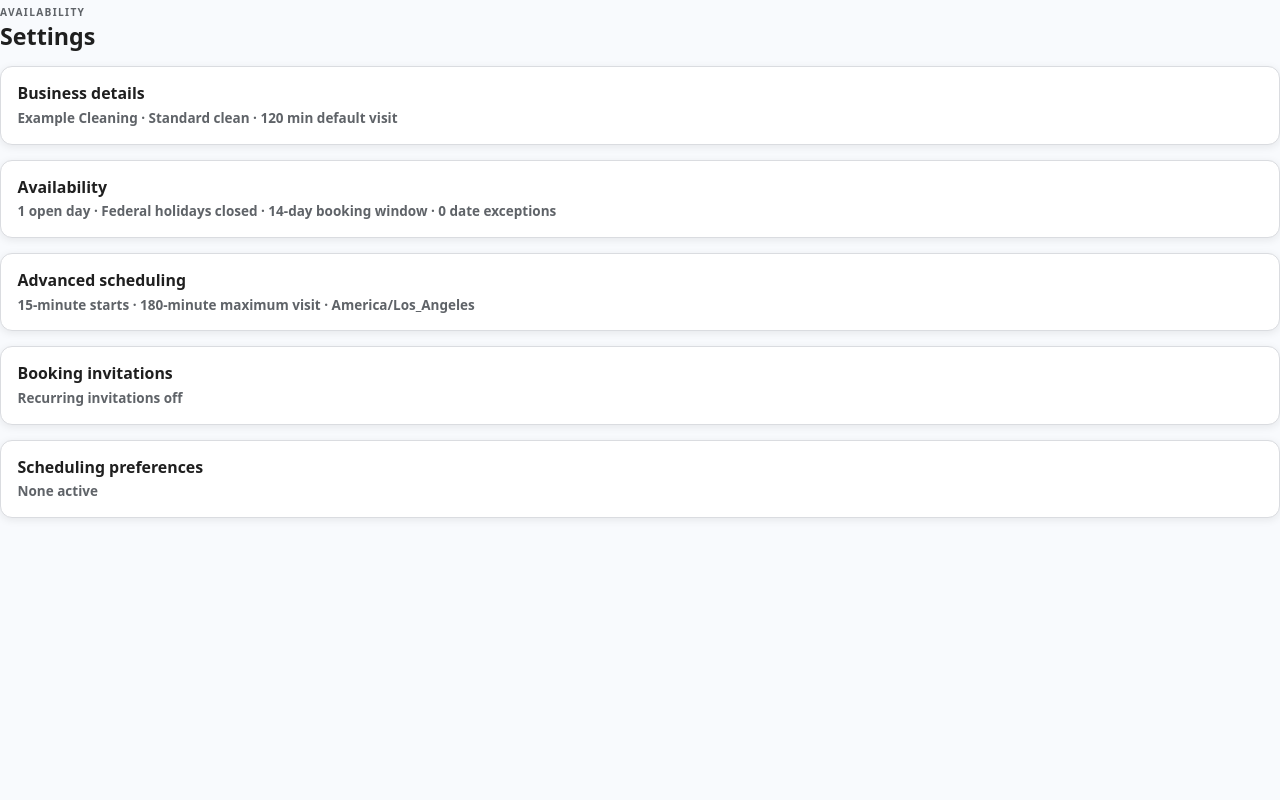
Test case: owner Settings › opens a collapsed Service section and focuses its invalid field
Click the button with aria-label "Edit Business details" at point(81, 93), box [0,66,1279,144]
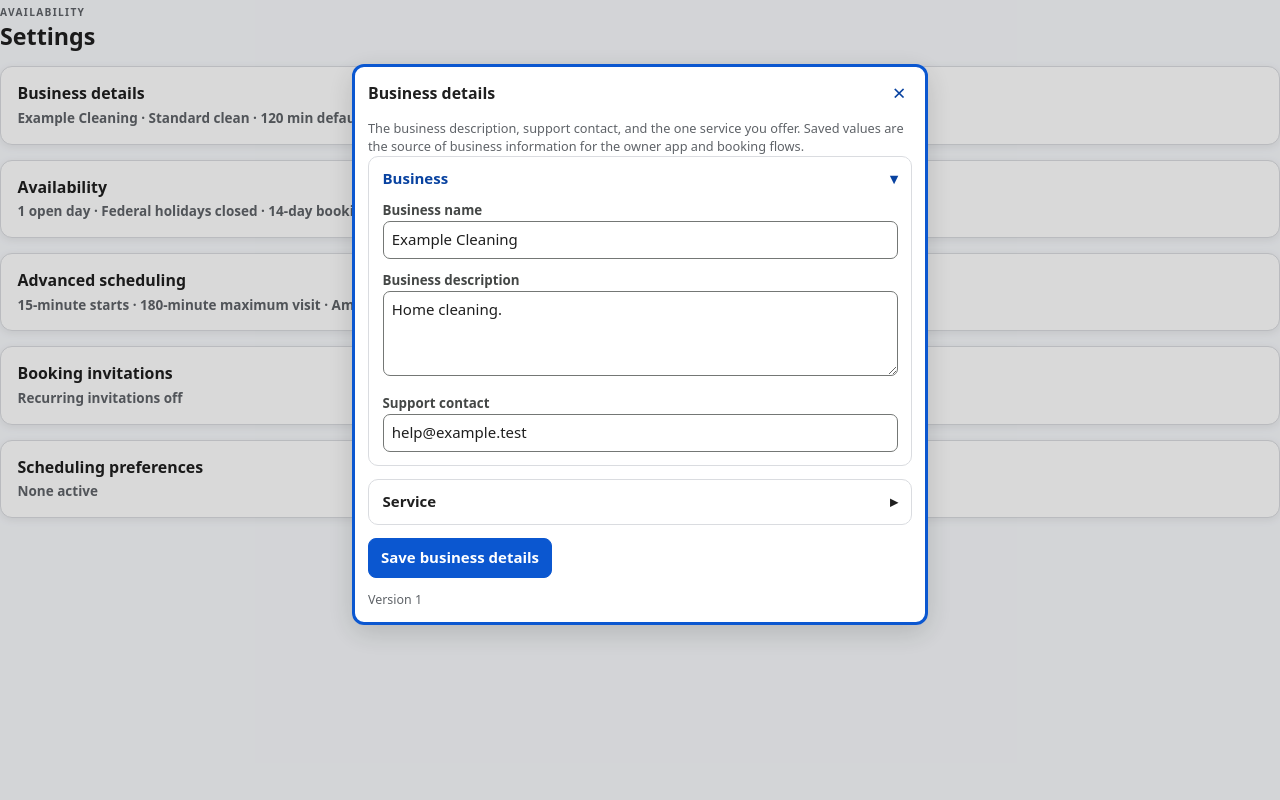
Click the button "Service ▸" at point(409, 501), box [369,480,911,524]
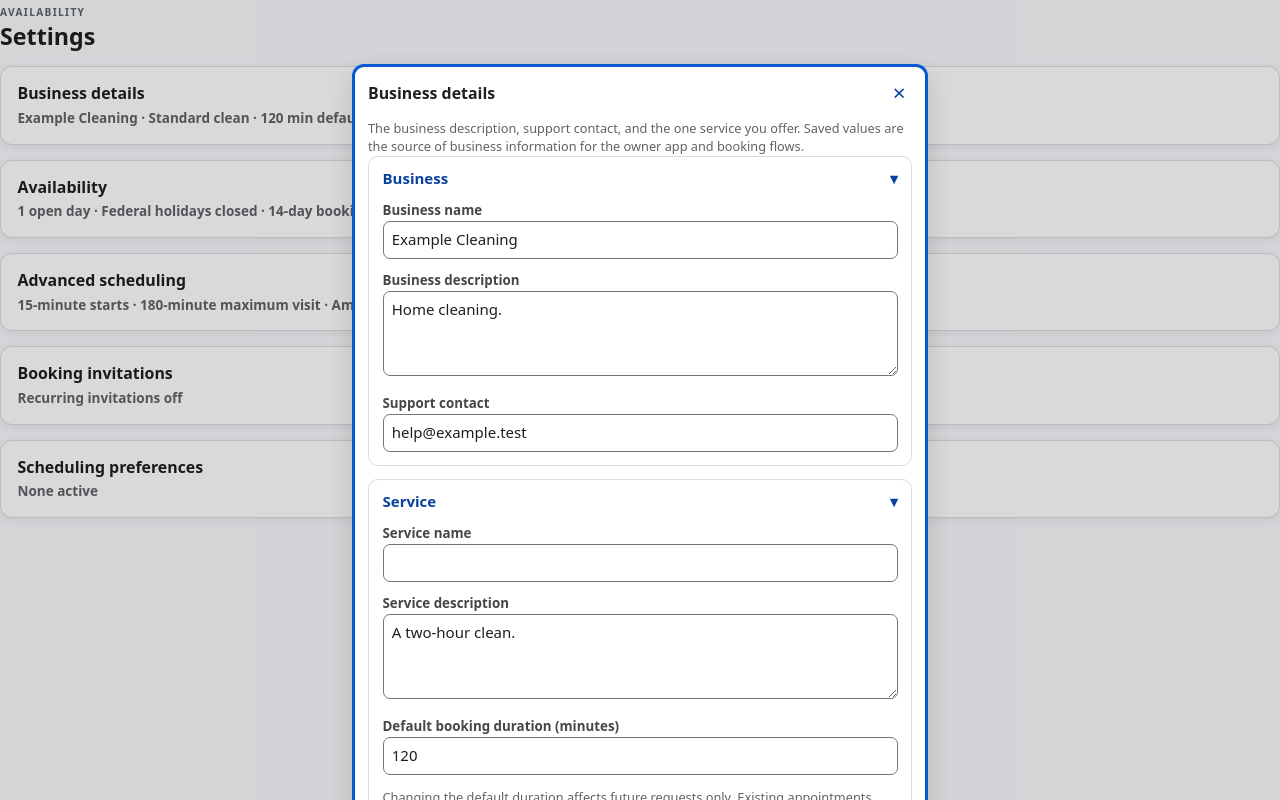
Clear the field with id "business-profile-service_name" at point(640, 563), box [382,544,898,582]
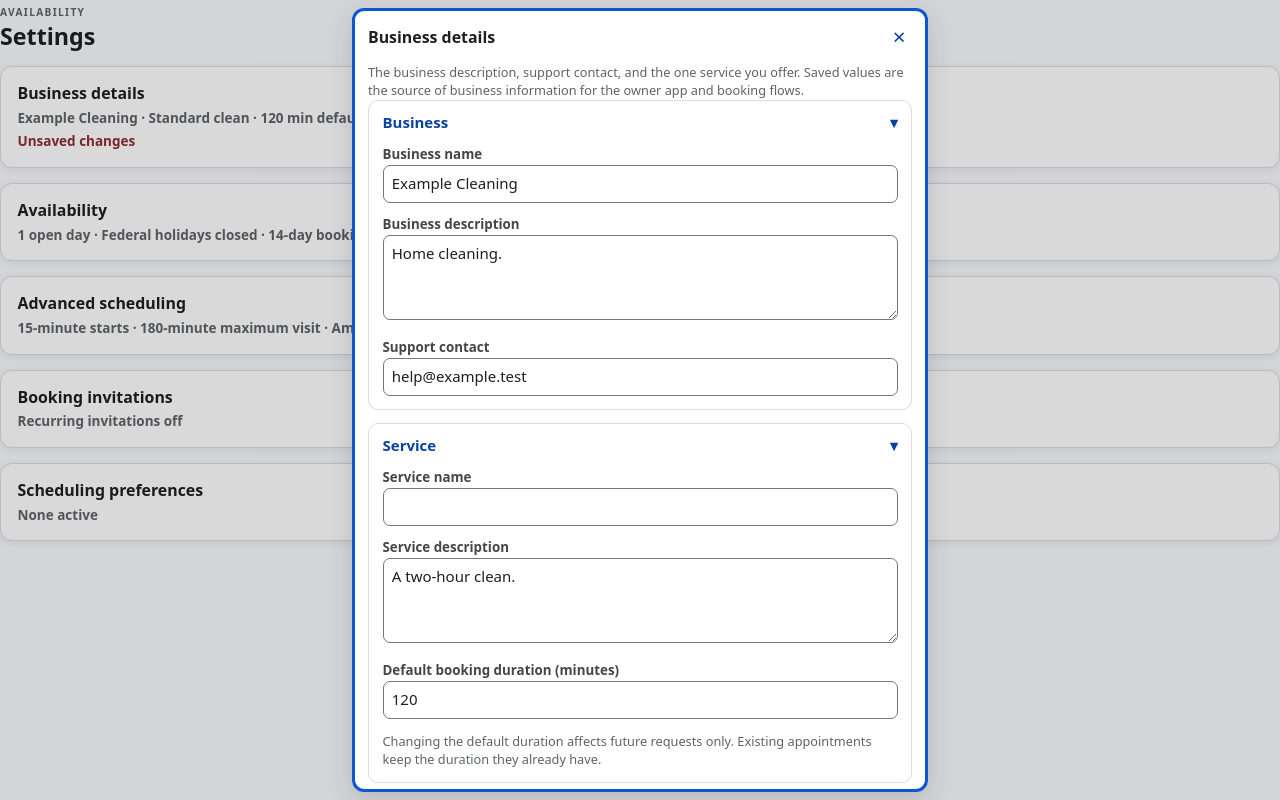
Click the button "Service ▾" at point(409, 445), box [369,424,911,468]
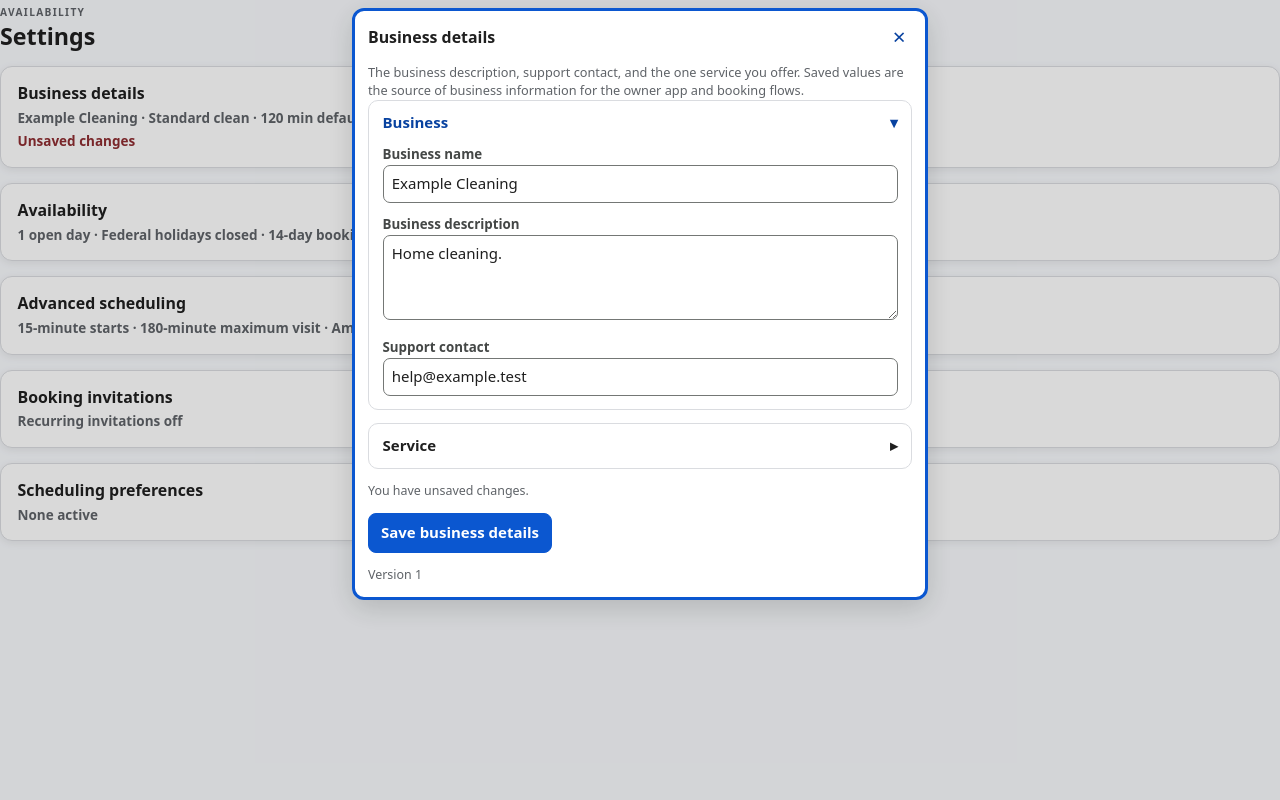
Expected: the button "Service ▸" is collapsed, [369,424,911,468]
Click the button "Save business details" at point(460, 533), box [368,513,552,553]
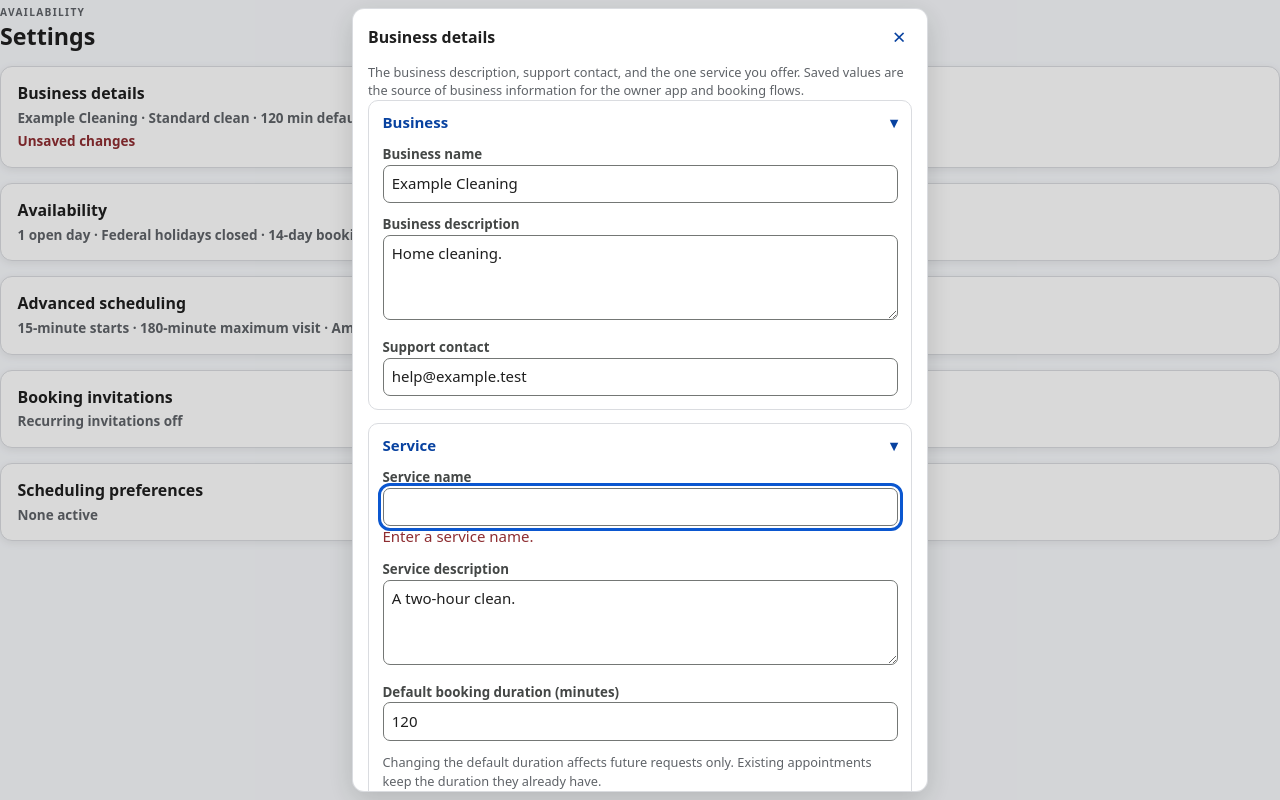
Expected: the button "Service ▾" is expanded, [369,424,911,468]
